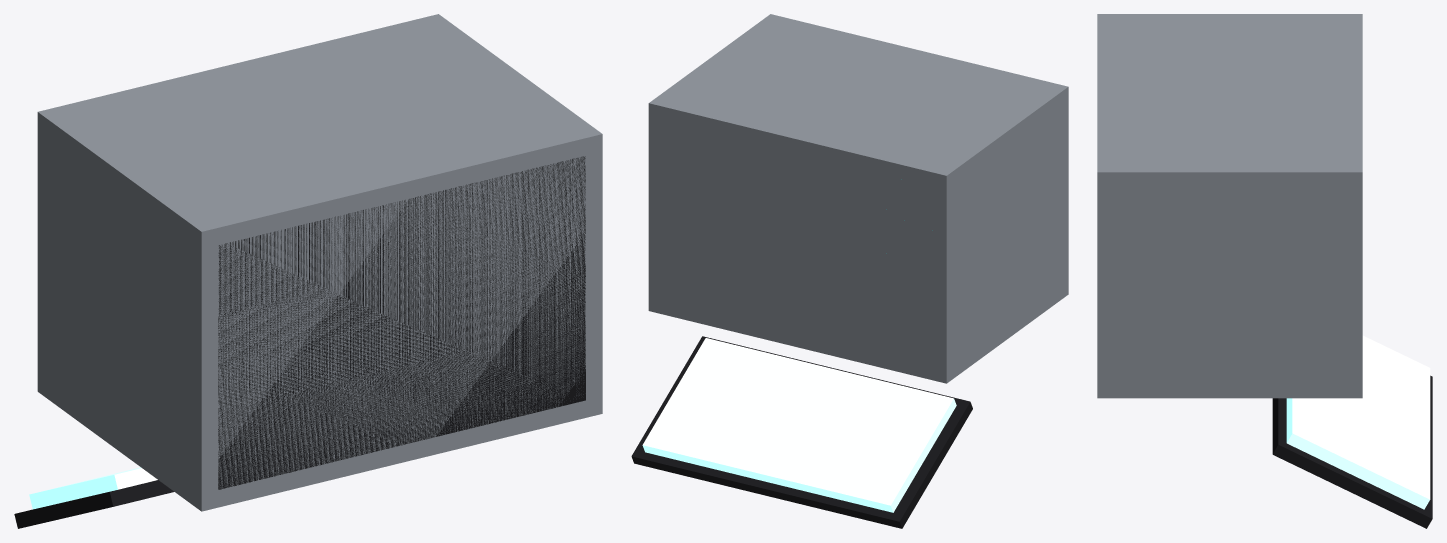
The model's file is Console_Kiosk.glb.
The picture shows the model from 3 angles, left to right: view 1: azimuth 30°, elevation 25°; view 2: azimuth 150°, elevation 25°; view 3: azimuth 270°, elevation 25°; orthographic projection. The views are drawn at different scales.
Parts seen in each view (by area): view 1: Console_Kiosk; view 2: Console_Kiosk; view 3: Console_Kiosk.
Boxes of the visible parts, box(x1,y1,x2,y2) form: Console_Kiosk: box(14, 14, 602, 528); Console_Kiosk: box(631, 14, 1068, 528); Console_Kiosk: box(1097, 14, 1432, 528).
Bounding box in the file's own units: 1.2 × 1.29 × 1.07.
